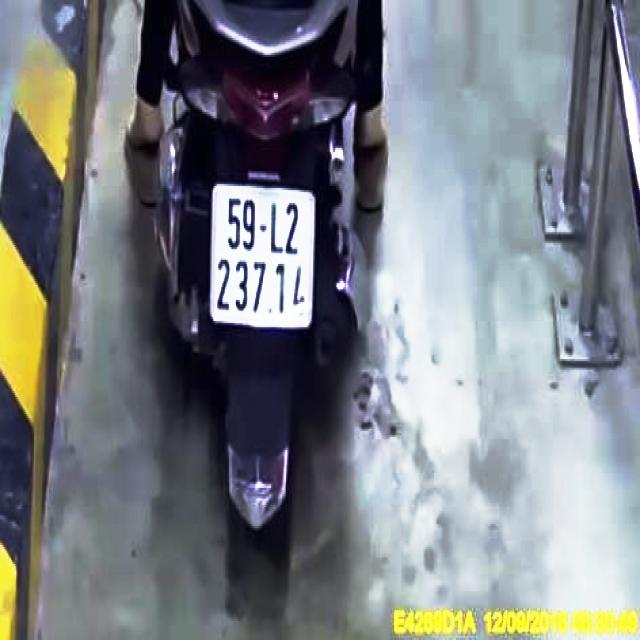license_plate: (210, 188, 316, 331)
